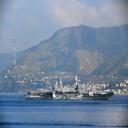Portanaves: (24, 74, 118, 102)
